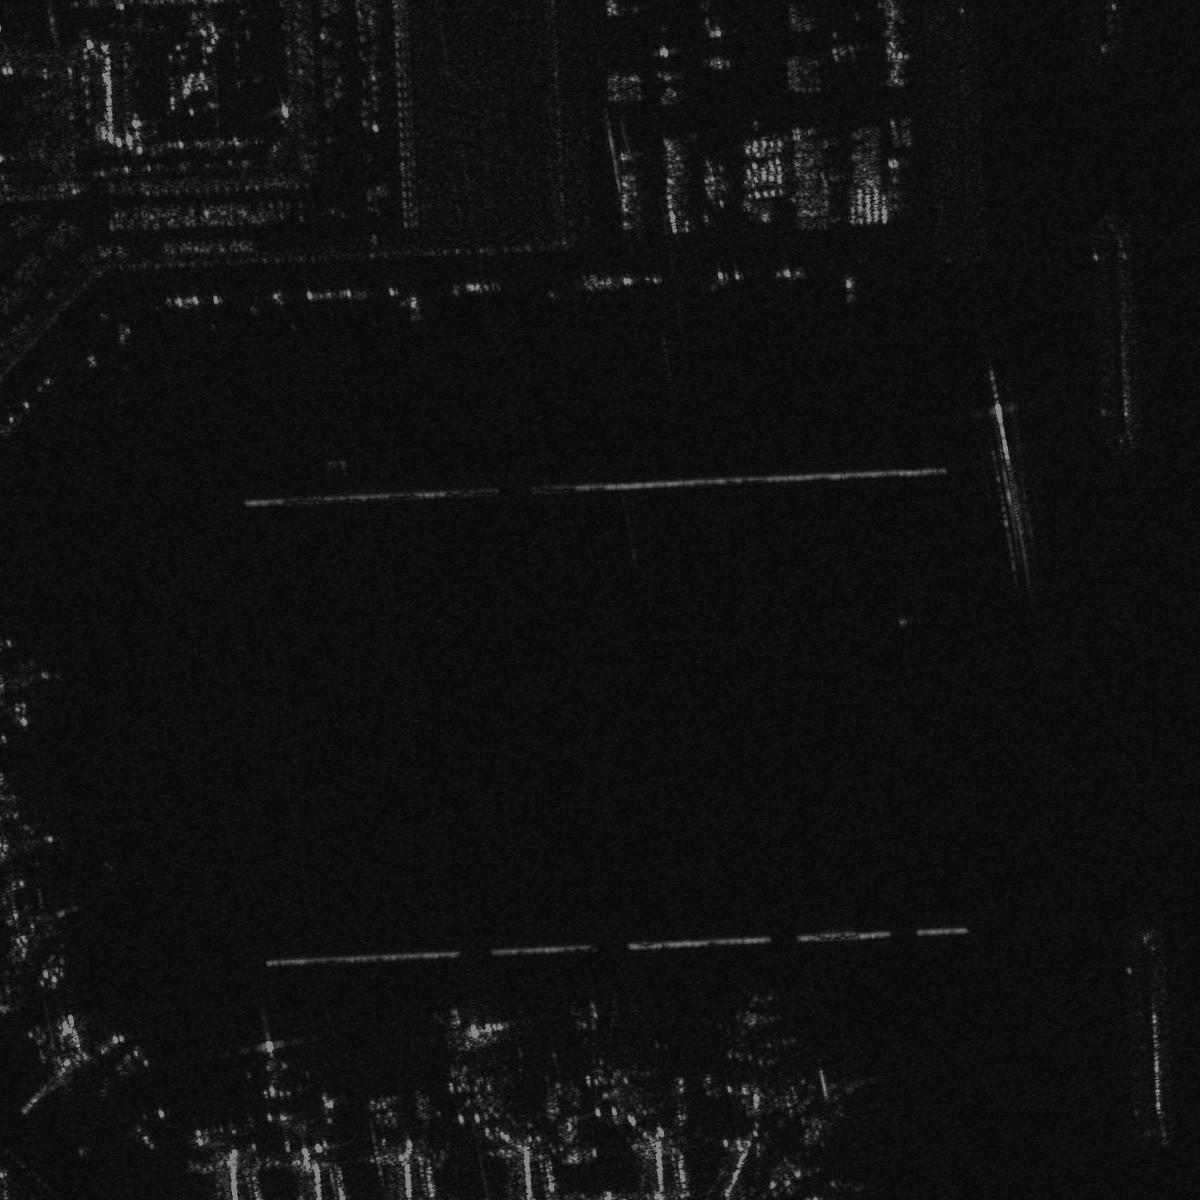A220: (251, 1025, 320, 1104)
A320/321: (704, 988, 804, 1069), (569, 996, 630, 1086), (433, 1010, 488, 1100)
